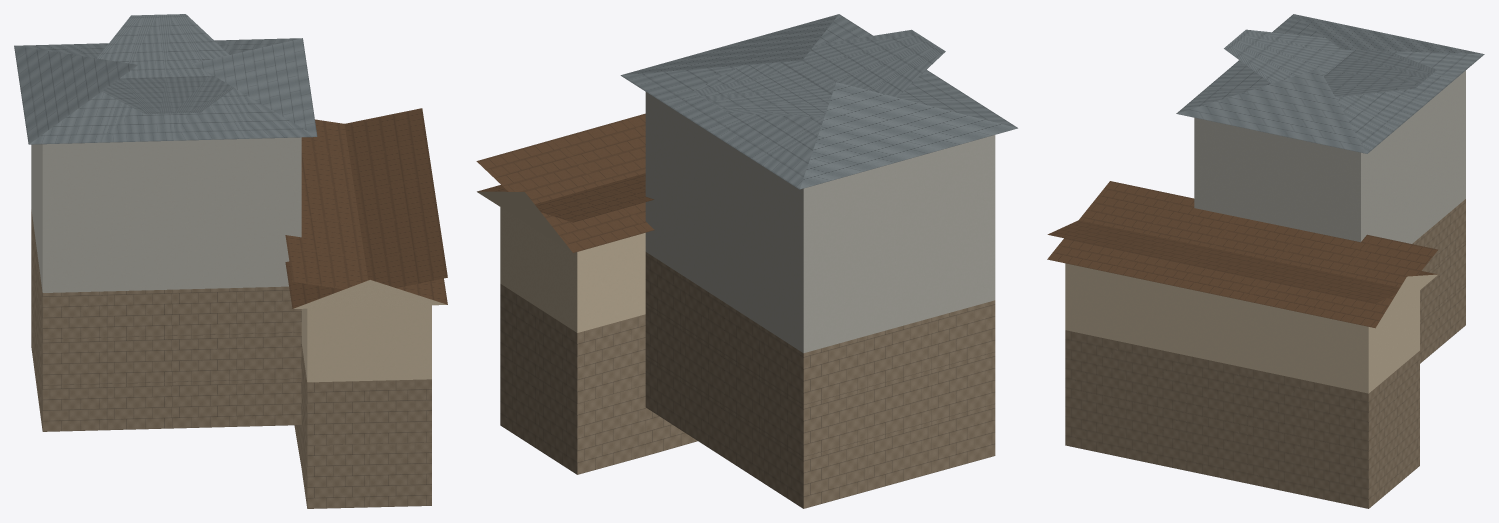
The model's file is bld_c10_8_518.gltf.
3 views of the same model, side by side, from view 1: azimuth 30°, elevation 25°; view 2: azimuth 150°, elevation 25°; view 3: azimuth 270°, elevation 25° (orthographic). The views are drawn at different scales.
Visible parts, largest first — view 1: bld_c10_8_518; view 2: bld_c10_8_518; view 3: bld_c10_8_518.
Boxes of the visible parts, x1,y1,x2,y2 form: bld_c10_8_518: [14, 14, 447, 508]; bld_c10_8_518: [476, 14, 1017, 508]; bld_c10_8_518: [1047, 14, 1484, 508].
Size of the model in its own units: 16.86 by 13.4 by 15.99.
6 materials, 6 textured.
